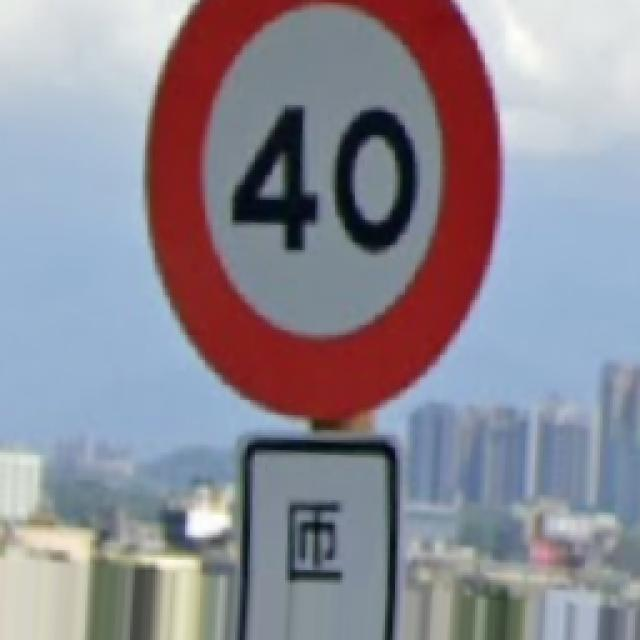Speed Limit -40-: (148, 0, 500, 418)
